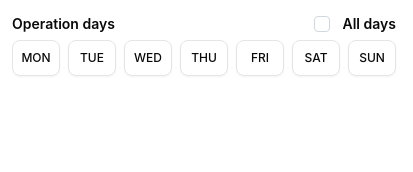
it: OperationDaysField › clears every day and enables toggles when All days is unchecked
Click the checkbox named "All days".
click(322, 24)  # box left=314, top=16, right=330, bottom=32
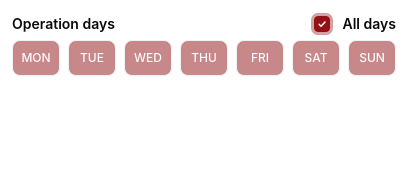
Click the checkbox named "All days".
click(322, 24)  # box left=314, top=16, right=330, bottom=32
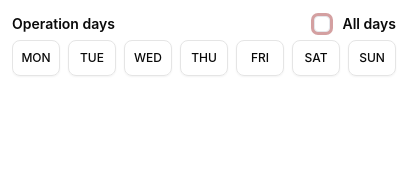
expect the button "MON" is enabled: met, box left=12, top=40, right=60, bottom=76
expect the button "TUE" is enabled: met, box left=68, top=40, right=116, bottom=76
expect the button "WED" is enabled: met, box left=124, top=40, right=172, bottom=76
